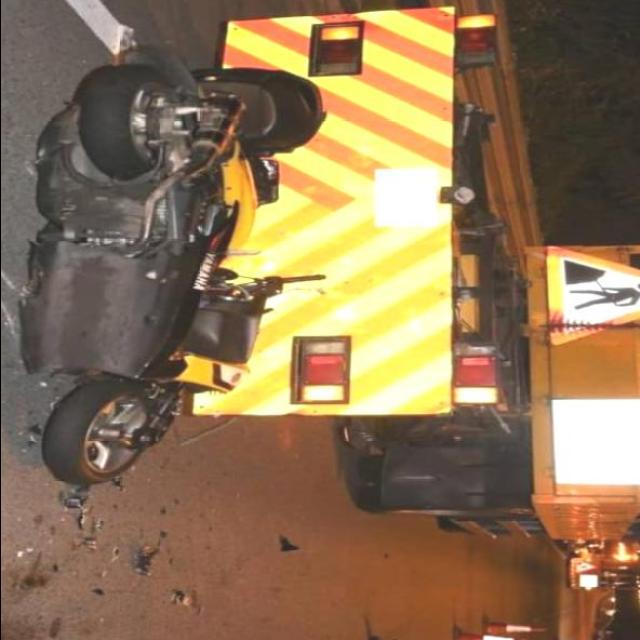accident: (0, 50, 356, 514)
